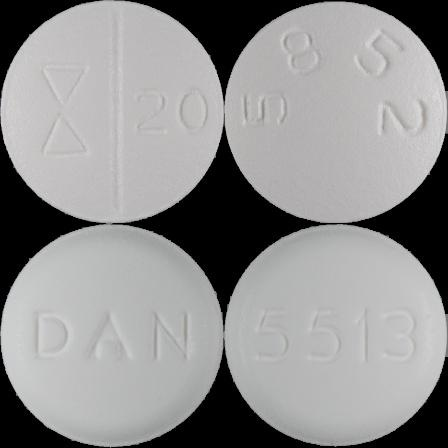63629-4699: (0, 0, 224, 224)
